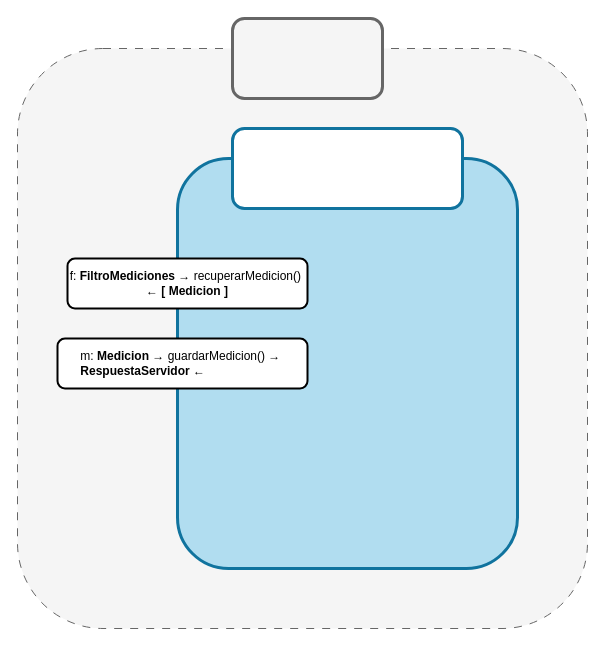
This 605x646 diagram has some shape labels left out. Each missing label, with the box of its shape:
Logica de negocio: (230, 126, 464, 210)
Server: (230, 16, 384, 100)
